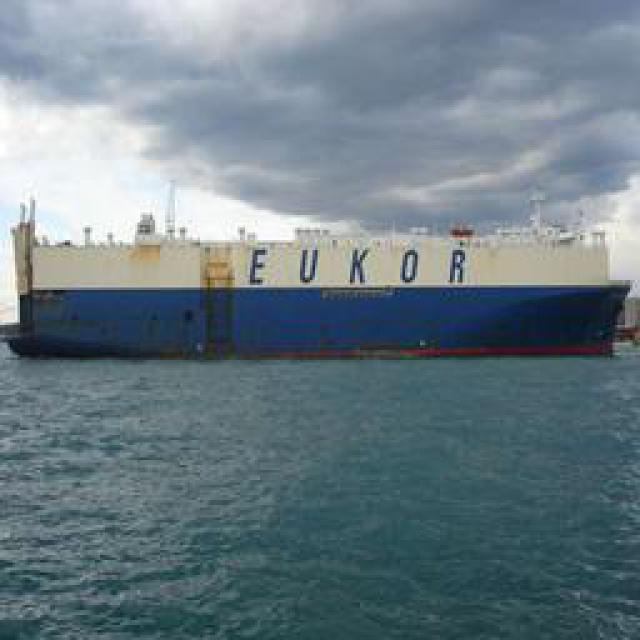Ship: (6, 203, 634, 358)
